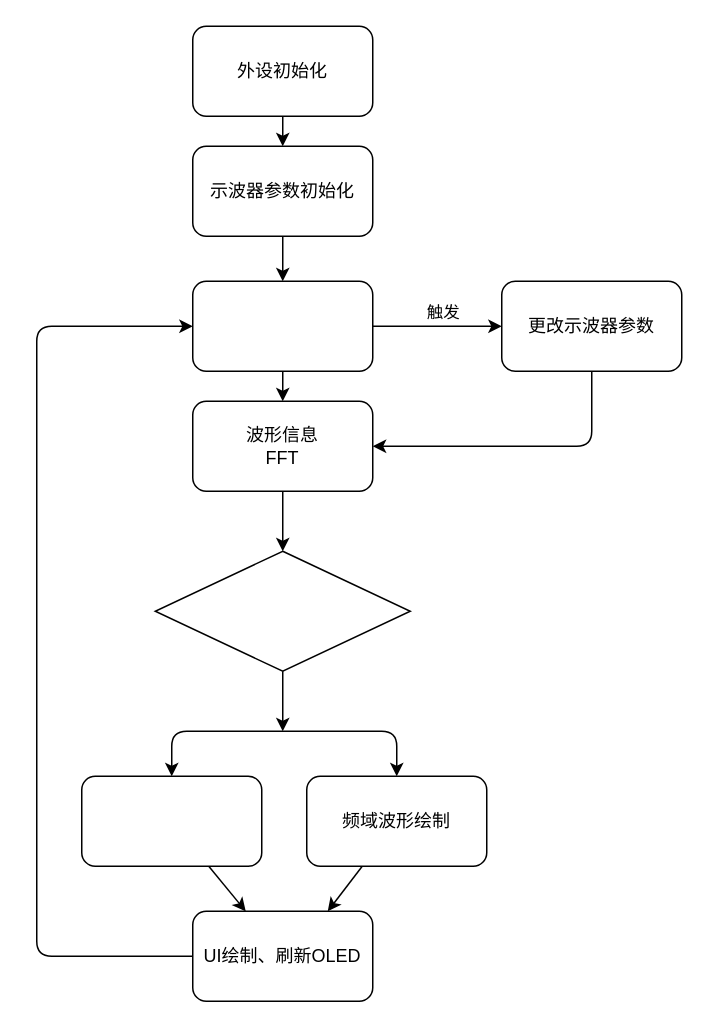
Image size: 708x1028. Some labels were removed from this diagram. Each missing label, with the centre of its shape:
按键滤波: the point at 282,325
时域波形绘制: the point at 171,820
输出模式选择: the point at 282,610
